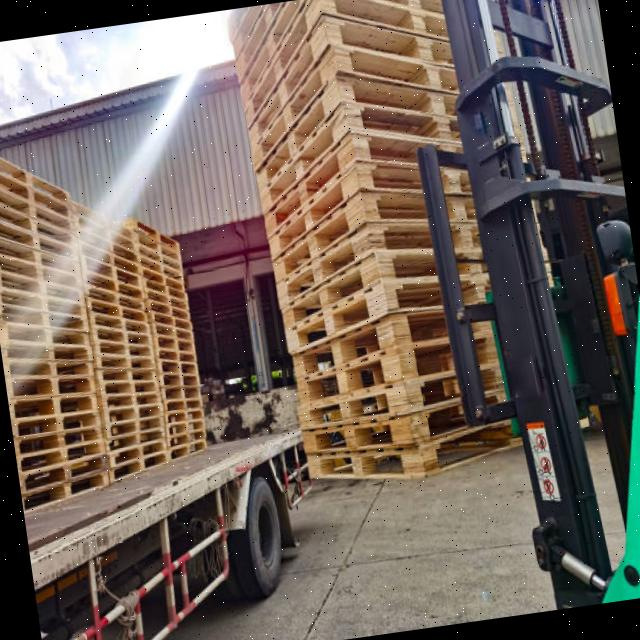Wooden-Pallets: (251, 79, 350, 210), (261, 193, 371, 297), (289, 309, 403, 378), (298, 411, 421, 456), (303, 445, 423, 489), (0, 150, 73, 213), (18, 453, 114, 498)
